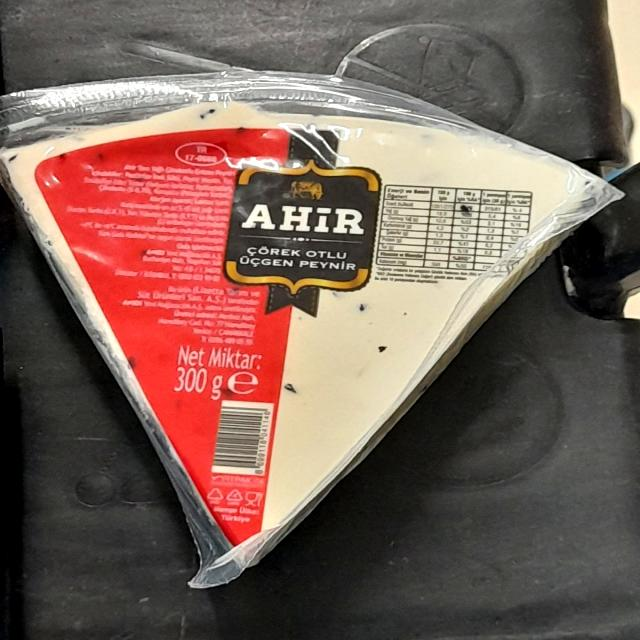cheese: (3, 89, 616, 582)
